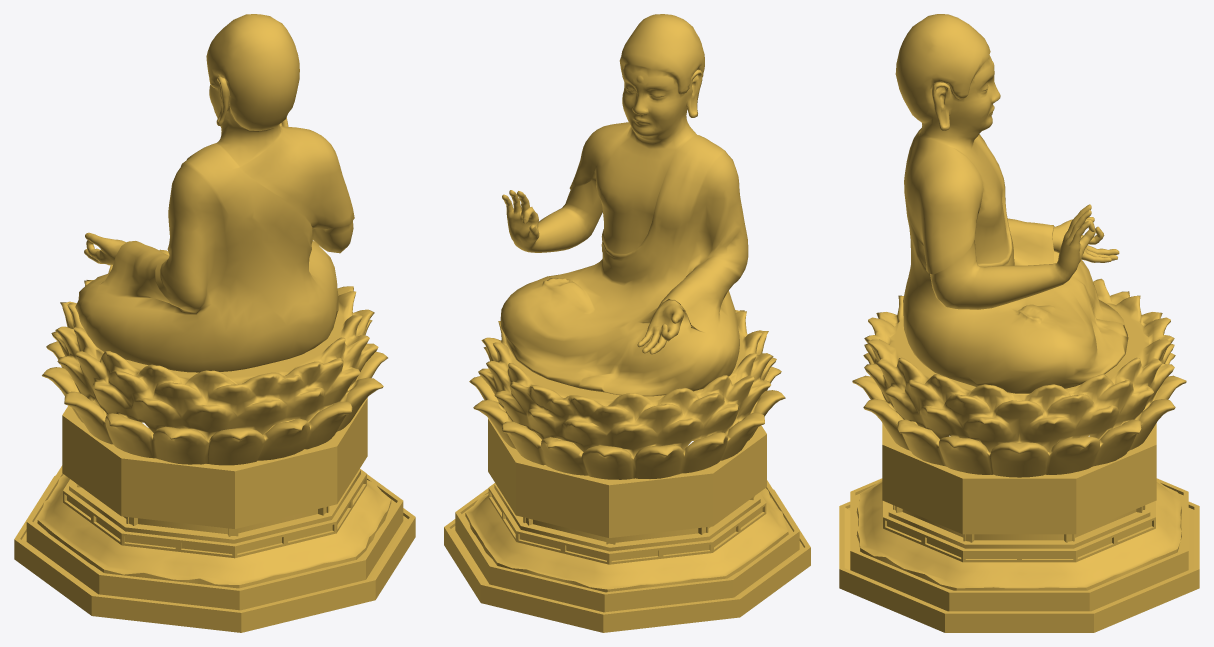
Rendered from buddha-open-halo.glb.
3 renders of one model, left to right at view 1: azimuth 30°, elevation 25°; view 2: azimuth 150°, elevation 25°; view 3: azimuth 270°, elevation 25°, orthographic. The views are drawn at different scales.
Parts seen in each view (by area): view 1: Buddah_low, petals_low, table01_cloth_low, skirt_low, bottom_piece_01_low, bottom_piece_02_low, base_structure_low; view 2: Buddah_low, petals_low, table01_cloth_low, skirt_low, bottom_piece_01_low, bottom_piece_02_low, base_structure_low; view 3: Buddah_low, petals_low, table01_cloth_low, skirt_low, bottom_piece_01_low, bottom_piece_02_low, base_structure_low.
Part boxes in pixels (bbox=[...]): Buddah_low: bbox=[75, 14, 354, 372]; petals_low: bbox=[42, 249, 387, 465]; table01_cloth_low: bbox=[62, 398, 367, 528]; skirt_low: bbox=[37, 474, 391, 588]; bottom_piece_01_low: bbox=[14, 475, 415, 632]; bottom_piece_02_low: bbox=[26, 465, 403, 610]; base_structure_low: bbox=[63, 428, 366, 558]; Buddah_low: bbox=[500, 14, 748, 396]; petals_low: bbox=[469, 310, 785, 479]; table01_cloth_low: bbox=[488, 418, 766, 537]; skirt_low: bbox=[465, 488, 788, 592]; bottom_piece_01_low: bbox=[444, 489, 810, 632]; bottom_piece_02_low: bbox=[455, 480, 799, 612]; base_structure_low: bbox=[488, 446, 766, 564]; Buddah_low: bbox=[895, 14, 1128, 393]; petals_low: bbox=[852, 278, 1186, 477]; table01_cloth_low: bbox=[882, 423, 1156, 534]; skirt_low: bbox=[856, 480, 1181, 590]; bottom_piece_01_low: bbox=[839, 501, 1199, 632]; bottom_piece_02_low: bbox=[850, 478, 1188, 611]; base_structure_low: bbox=[883, 501, 1155, 562].
Bounding box in the file's own units: 270 × 446 × 270.
